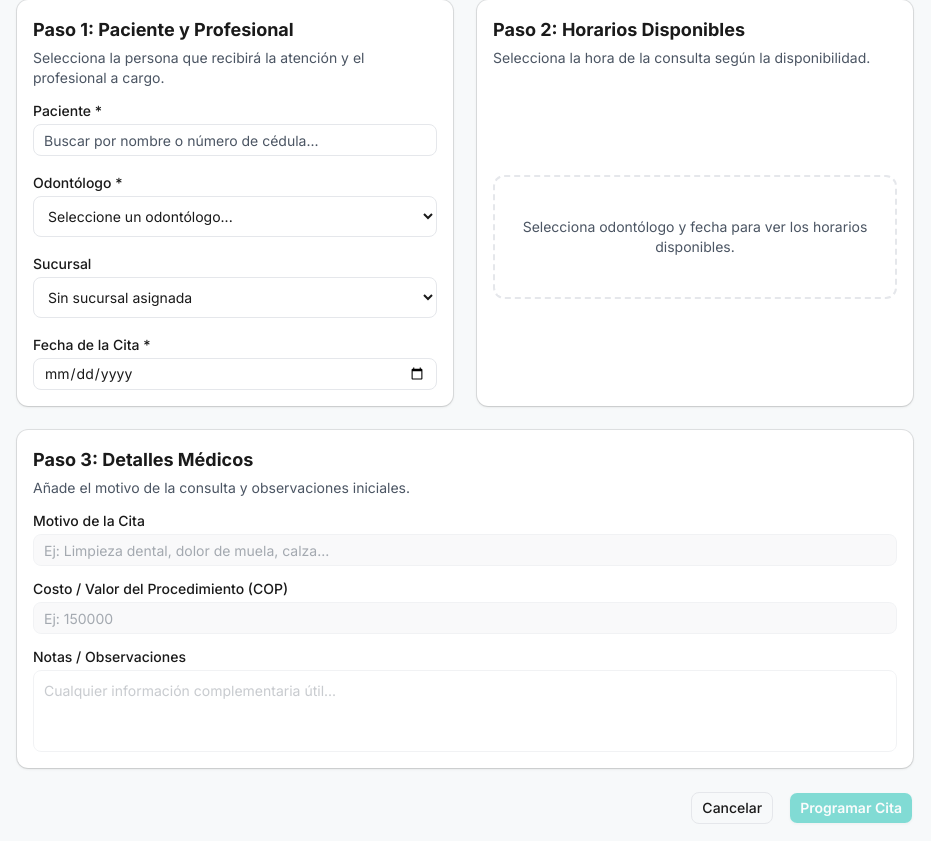
Test: AppointmentForm Component › 2. should fetch available slots when both dentist and date are selected and show them as options
Select Dentist
Select "Dr. House" in the dropdown labelled "Odontólogo *" at point(235, 216), box [33,196,437,237]
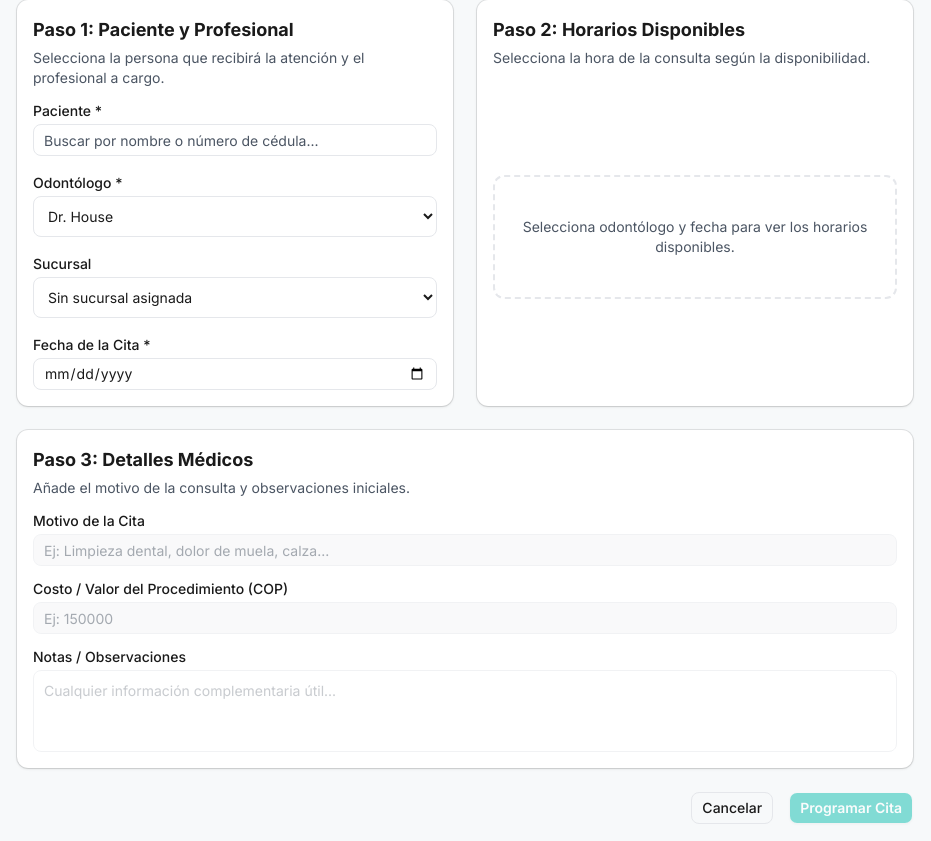
Select Date
Type "2026-07-06" into the date field labelled "Fecha de la Cita *" at point(235, 374), box [33,358,437,390]
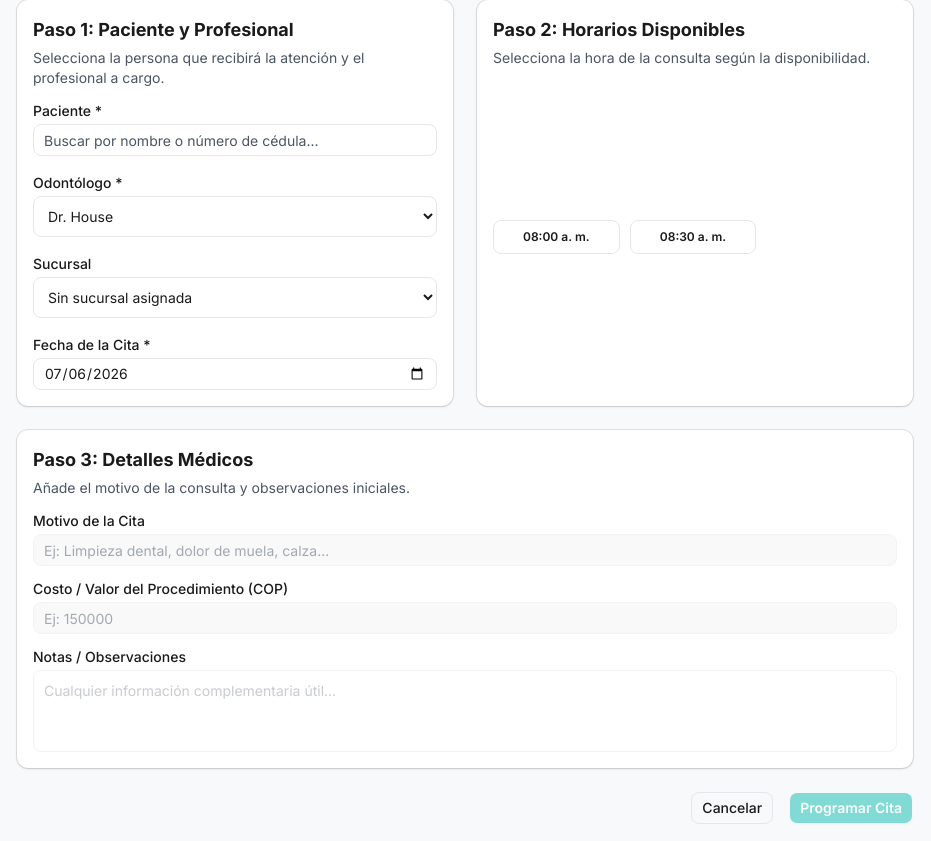
Check: the button "08:00 a. m." is shown, box [493,220,620,254]
Check: the button "08:30 a. m." is shown, box [630,220,756,254]
